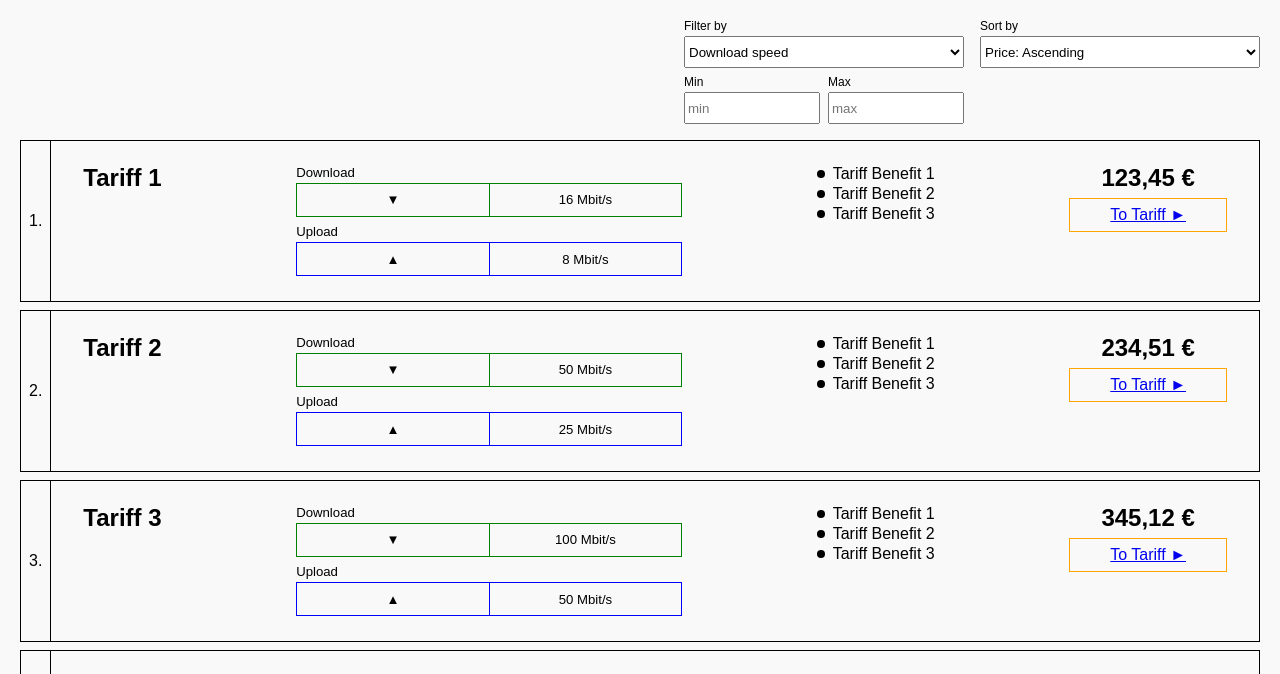
Test: Tariffs component › displays not found message when no tariffs match filter criteria
This screenshot has width=1280, height=674.
Select "Download speed" in the dropdown labelled "Filter by": (824, 52) [684,36,964,68]
In the number field labelled "Min": (752, 108) [684,92,820,124], type "1000"
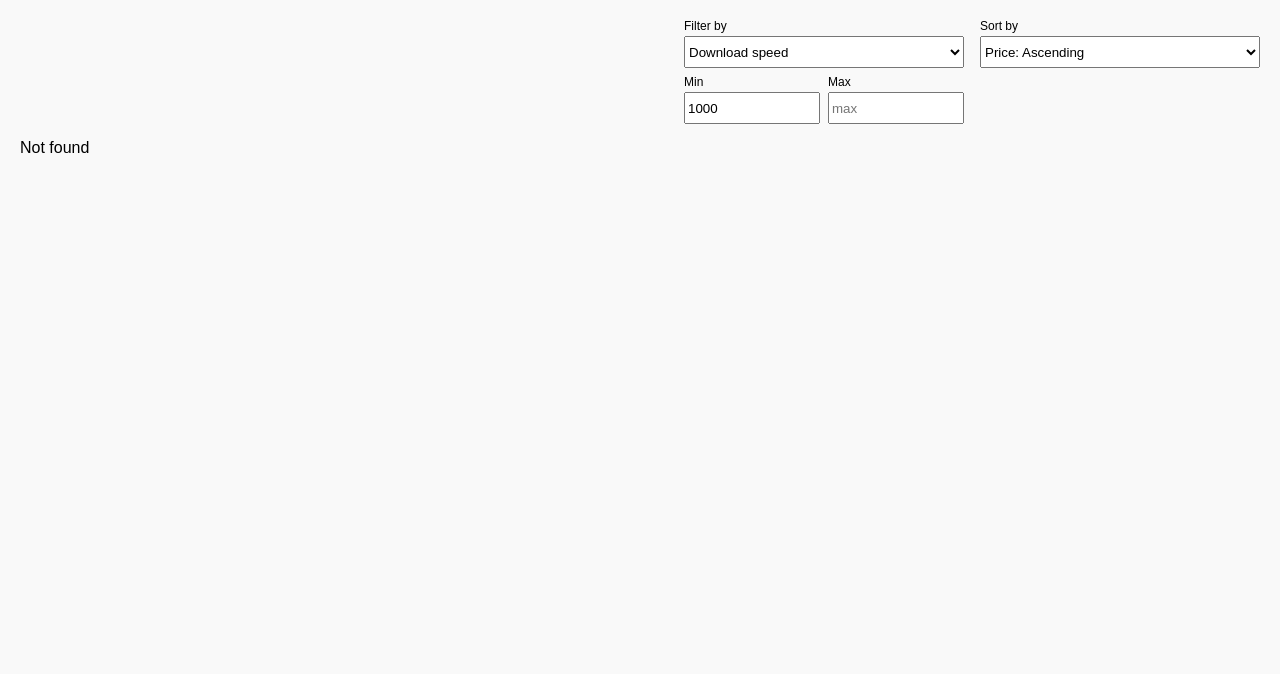
Result: the text "Not found" is shown at [20,139,89,156]
